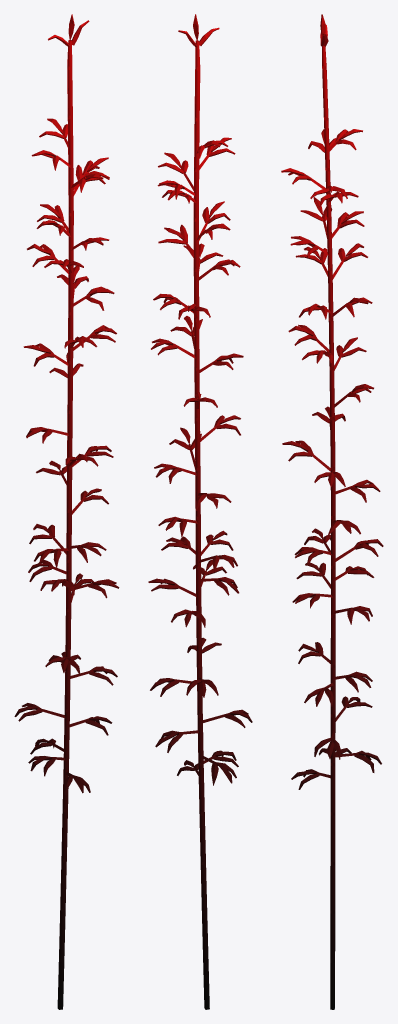
Rendered from TreeBambooTall05.fbx.
The picture shows the model from 3 angles, left to right: view 1: azimuth 30°, elevation 25°; view 2: azimuth 210°, elevation 25°; view 3: azimuth 270°, elevation 25°; orthographic projection.
Parts seen in each view (by area): view 1: TreeBambooTall05_LOD0; view 2: TreeBambooTall05_LOD0; view 3: TreeBambooTall05_LOD0.
Boxes of the visible parts, bbox=[...] form: TreeBambooTall05_LOD0: bbox=[14, 14, 119, 1009]; TreeBambooTall05_LOD0: bbox=[148, 14, 252, 1009]; TreeBambooTall05_LOD0: bbox=[281, 14, 383, 1009].
Size of what is drawn, in the model's own units: 112 by 1220 by 114.
